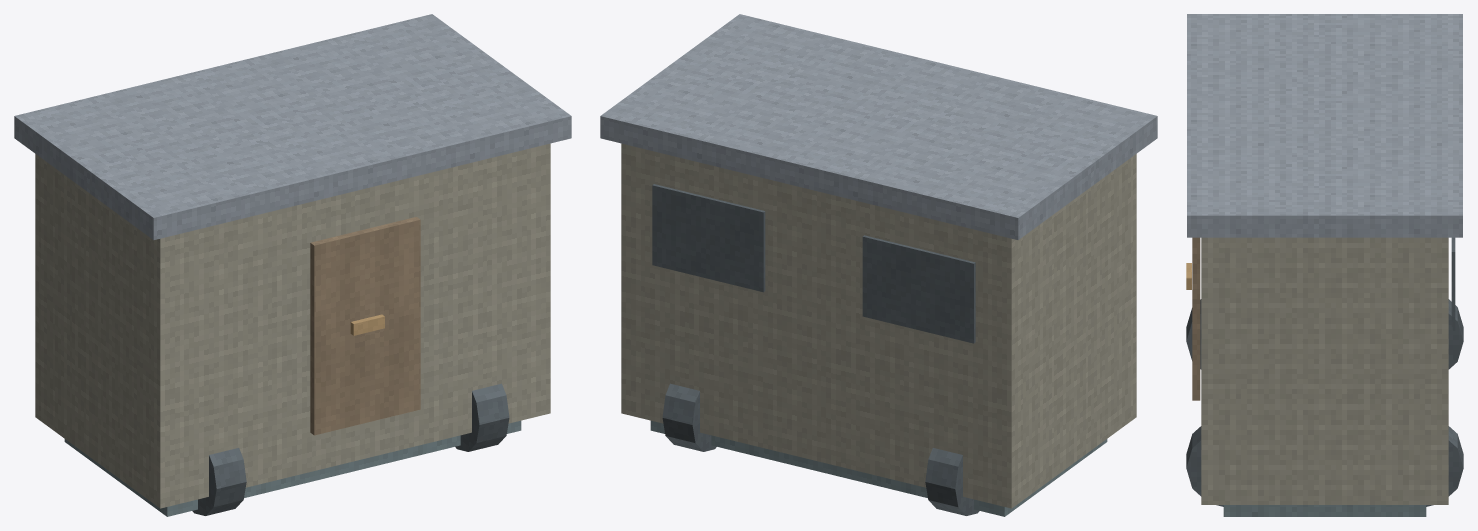
The model's file is level_blockout_abandoned_camper_shell.glb.
3 renders of one model, left to right at view 1: azimuth 30°, elevation 25°; view 2: azimuth 150°, elevation 25°; view 3: azimuth 270°, elevation 25°, orthographic.
Visible parts, largest first — view 1: level_blockout_abandoned_camper_shell; view 2: level_blockout_abandoned_camper_shell; view 3: level_blockout_abandoned_camper_shell.
Boxes of the visible parts, x1,y1,x2,y2 form: level_blockout_abandoned_camper_shell: (14, 14, 571, 516); level_blockout_abandoned_camper_shell: (600, 14, 1157, 516); level_blockout_abandoned_camper_shell: (1186, 14, 1463, 516).
Size of the model in its own units: 3.34 by 2.49 by 1.94.
Materials: 6 (6 with a texture image).
